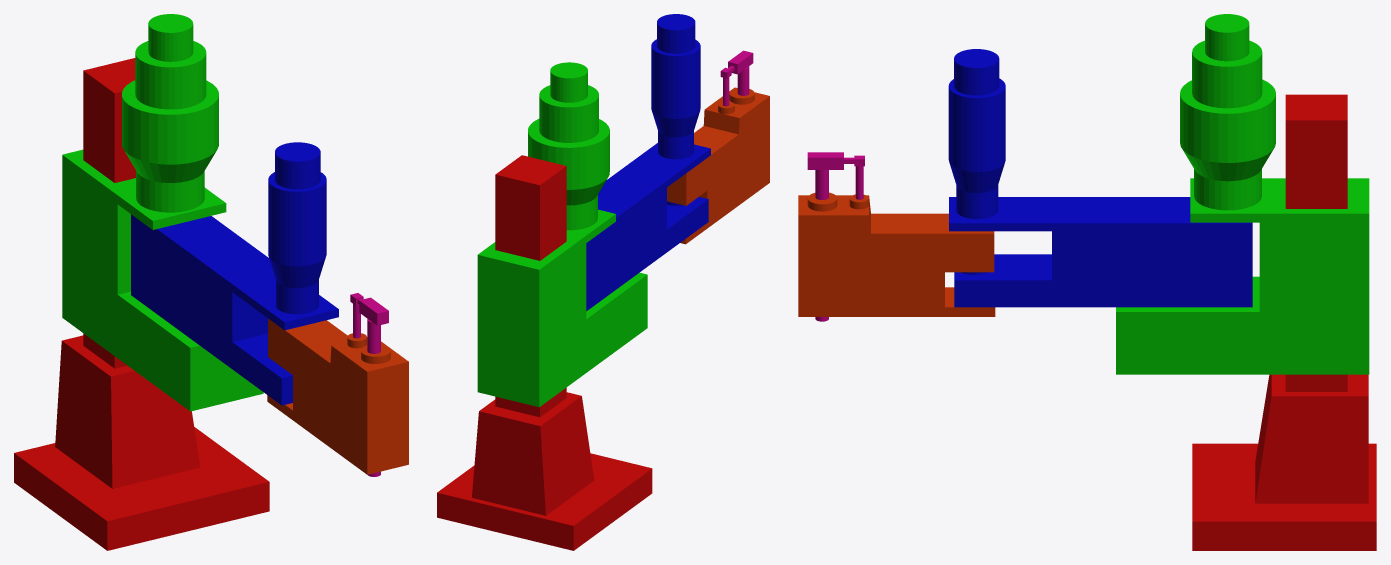
The model's file is var.obj.
3 views of the same model, side by side, from view 1: azimuth 30°, elevation 25°; view 2: azimuth 150°, elevation 25°; view 3: azimuth 270°, elevation 25° (orthographic). The views are drawn at different scales.
Visible parts, largest first — view 1: vertical_big, base, hotizontal_on_start, horizontal_on_end, vertical_mini; view 2: vertical_big, base, hotizontal_on_start, horizontal_on_end, vertical_mini; view 3: vertical_big, hotizontal_on_start, base, horizontal_on_end, vertical_mini.
Part boxes in pixels (bbox=[...]): vertical_big: bbox=[62, 14, 263, 411]; base: bbox=[14, 58, 269, 550]; hotizontal_on_start: bbox=[131, 142, 338, 405]; horizontal_on_end: bbox=[267, 318, 408, 474]; vertical_mini: bbox=[350, 293, 388, 476]; vertical_big: bbox=[477, 62, 647, 407]; base: bbox=[437, 155, 652, 550]; hotizontal_on_start: bbox=[586, 14, 710, 311]; horizontal_on_end: bbox=[667, 87, 769, 244]; vertical_mini: bbox=[720, 50, 753, 106]; vertical_big: bbox=[1116, 14, 1369, 374]; hotizontal_on_start: bbox=[948, 49, 1252, 307]; base: bbox=[1192, 94, 1376, 550]; horizontal_on_end: bbox=[798, 192, 995, 316]; vertical_mini: bbox=[807, 152, 864, 321].
Bounding box in the file's own units: 0.842 × 2.46 × 2.64.
